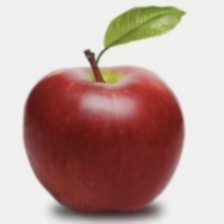apple: (19, 35, 188, 220)
